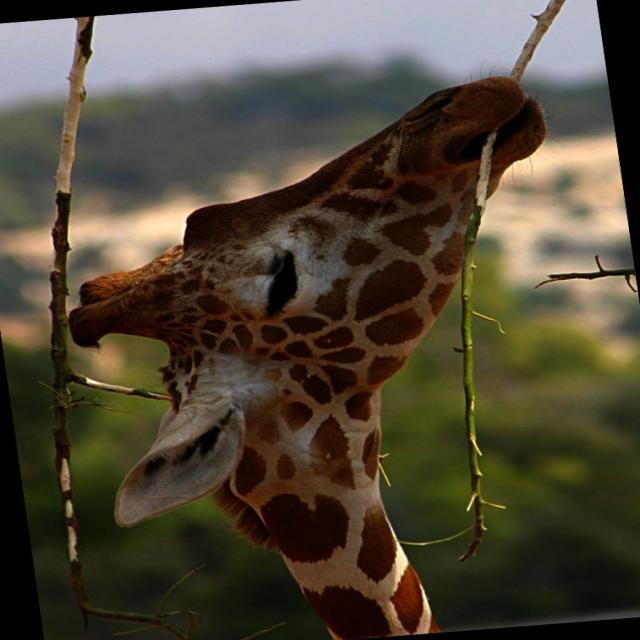Giraffe: (44, 59, 559, 640)
